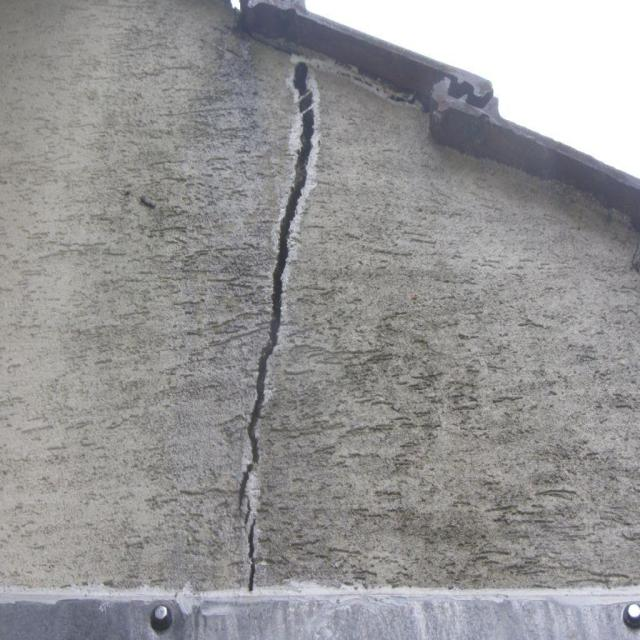crack: (238, 57, 423, 519), (247, 518, 259, 590)
